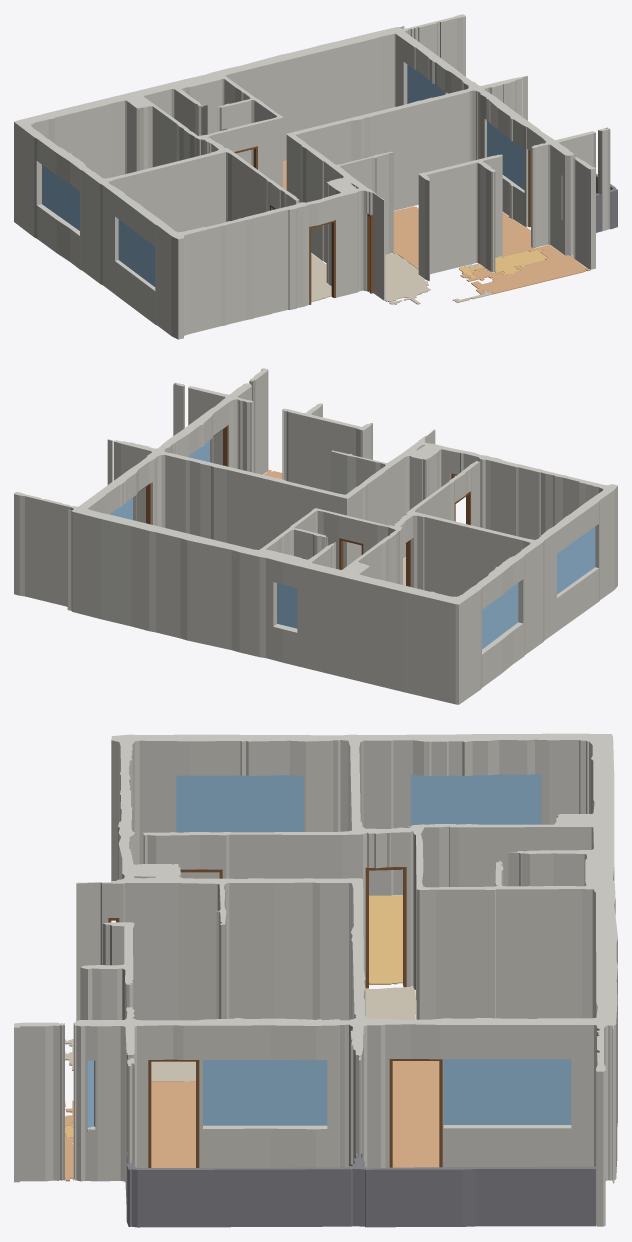
The picture shows the model from 3 angles, top to bottom: view 1: azimuth 30°, elevation 25°; view 2: azimuth 150°, elevation 25°; view 3: azimuth 270°, elevation 25°; orthographic projection. The views are drawn at different scales.
Visible parts, largest first — view 1: walls, floor_5_Living_Room, floor_11_Entry, window_12, window_10, window_11, window_9, floor_3_Kitchen, floor_12_Entry, door_6, railings, door_7; view 2: walls, window_12, window_10, window_8; view 3: walls, railings, window_9, window_11, window_12, window_10, floor_6_Living_Room, floor_5_Living_Room, floor_4_Kitchen, floor_12_Entry, floor_11_Entry, door_3 (+2 smaller).
Part boxes in pixels (box(x1,y1,x2,y2)): walls: box(14, 14, 610, 339); floor_5_Living_Room: box(393, 206, 590, 294); floor_11_Entry: box(385, 253, 430, 304); window_12: box(118, 219, 155, 286); window_10: box(42, 165, 79, 230); window_11: box(487, 121, 524, 190); window_9: box(407, 64, 444, 103); floor_3_Kitchen: box(495, 249, 547, 274); floor_12_Entry: box(311, 253, 331, 301); door_6: box(309, 220, 335, 304); railings: box(596, 173, 617, 232); door_7: box(367, 213, 373, 293); walls: box(14, 368, 617, 704); window_12: box(557, 527, 595, 594); window_10: box(482, 583, 518, 649); window_8: box(277, 583, 297, 628); walls: box(14, 733, 617, 1226); railings: box(126, 1152, 595, 1227); window_9: box(443, 1059, 571, 1124); window_11: box(203, 1060, 327, 1125); window_12: box(176, 775, 303, 832); window_10: box(410, 774, 540, 825); floor_6_Living_Room: box(392, 1061, 439, 1167); floor_5_Living_Room: box(65, 1081, 195, 1181); floor_4_Kitchen: box(369, 895, 402, 984); floor_12_Entry: box(365, 986, 415, 1019); floor_11_Entry: box(65, 1039, 195, 1082); door_3: box(365, 867, 406, 988).
Size of the model in its own units: 12.67 by 2.72 by 9.54.
